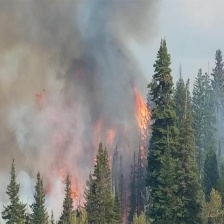fire: (133, 90, 155, 138), (68, 175, 81, 200)
smoke: (1, 1, 159, 212)
